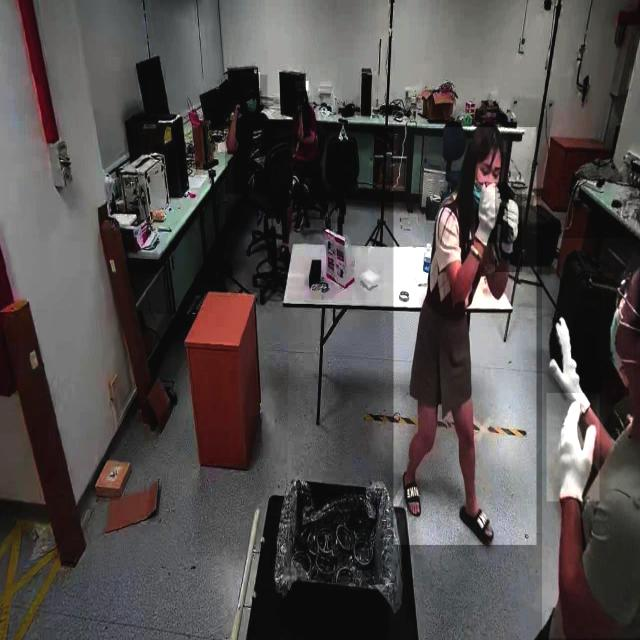face_mask: (601, 273, 634, 399), (241, 91, 261, 120)
face_nomask: (298, 92, 306, 106)
hand_glove: (546, 393, 600, 502), (548, 310, 596, 408), (495, 187, 522, 272), (476, 182, 508, 243)
hand_noglove: (234, 100, 245, 118), (298, 98, 304, 114)
head_nohelmet: (470, 120, 508, 153), (240, 72, 260, 89), (295, 81, 309, 91)
person: (393, 127, 537, 546), (542, 238, 640, 639), (287, 64, 325, 226), (225, 74, 268, 194)
